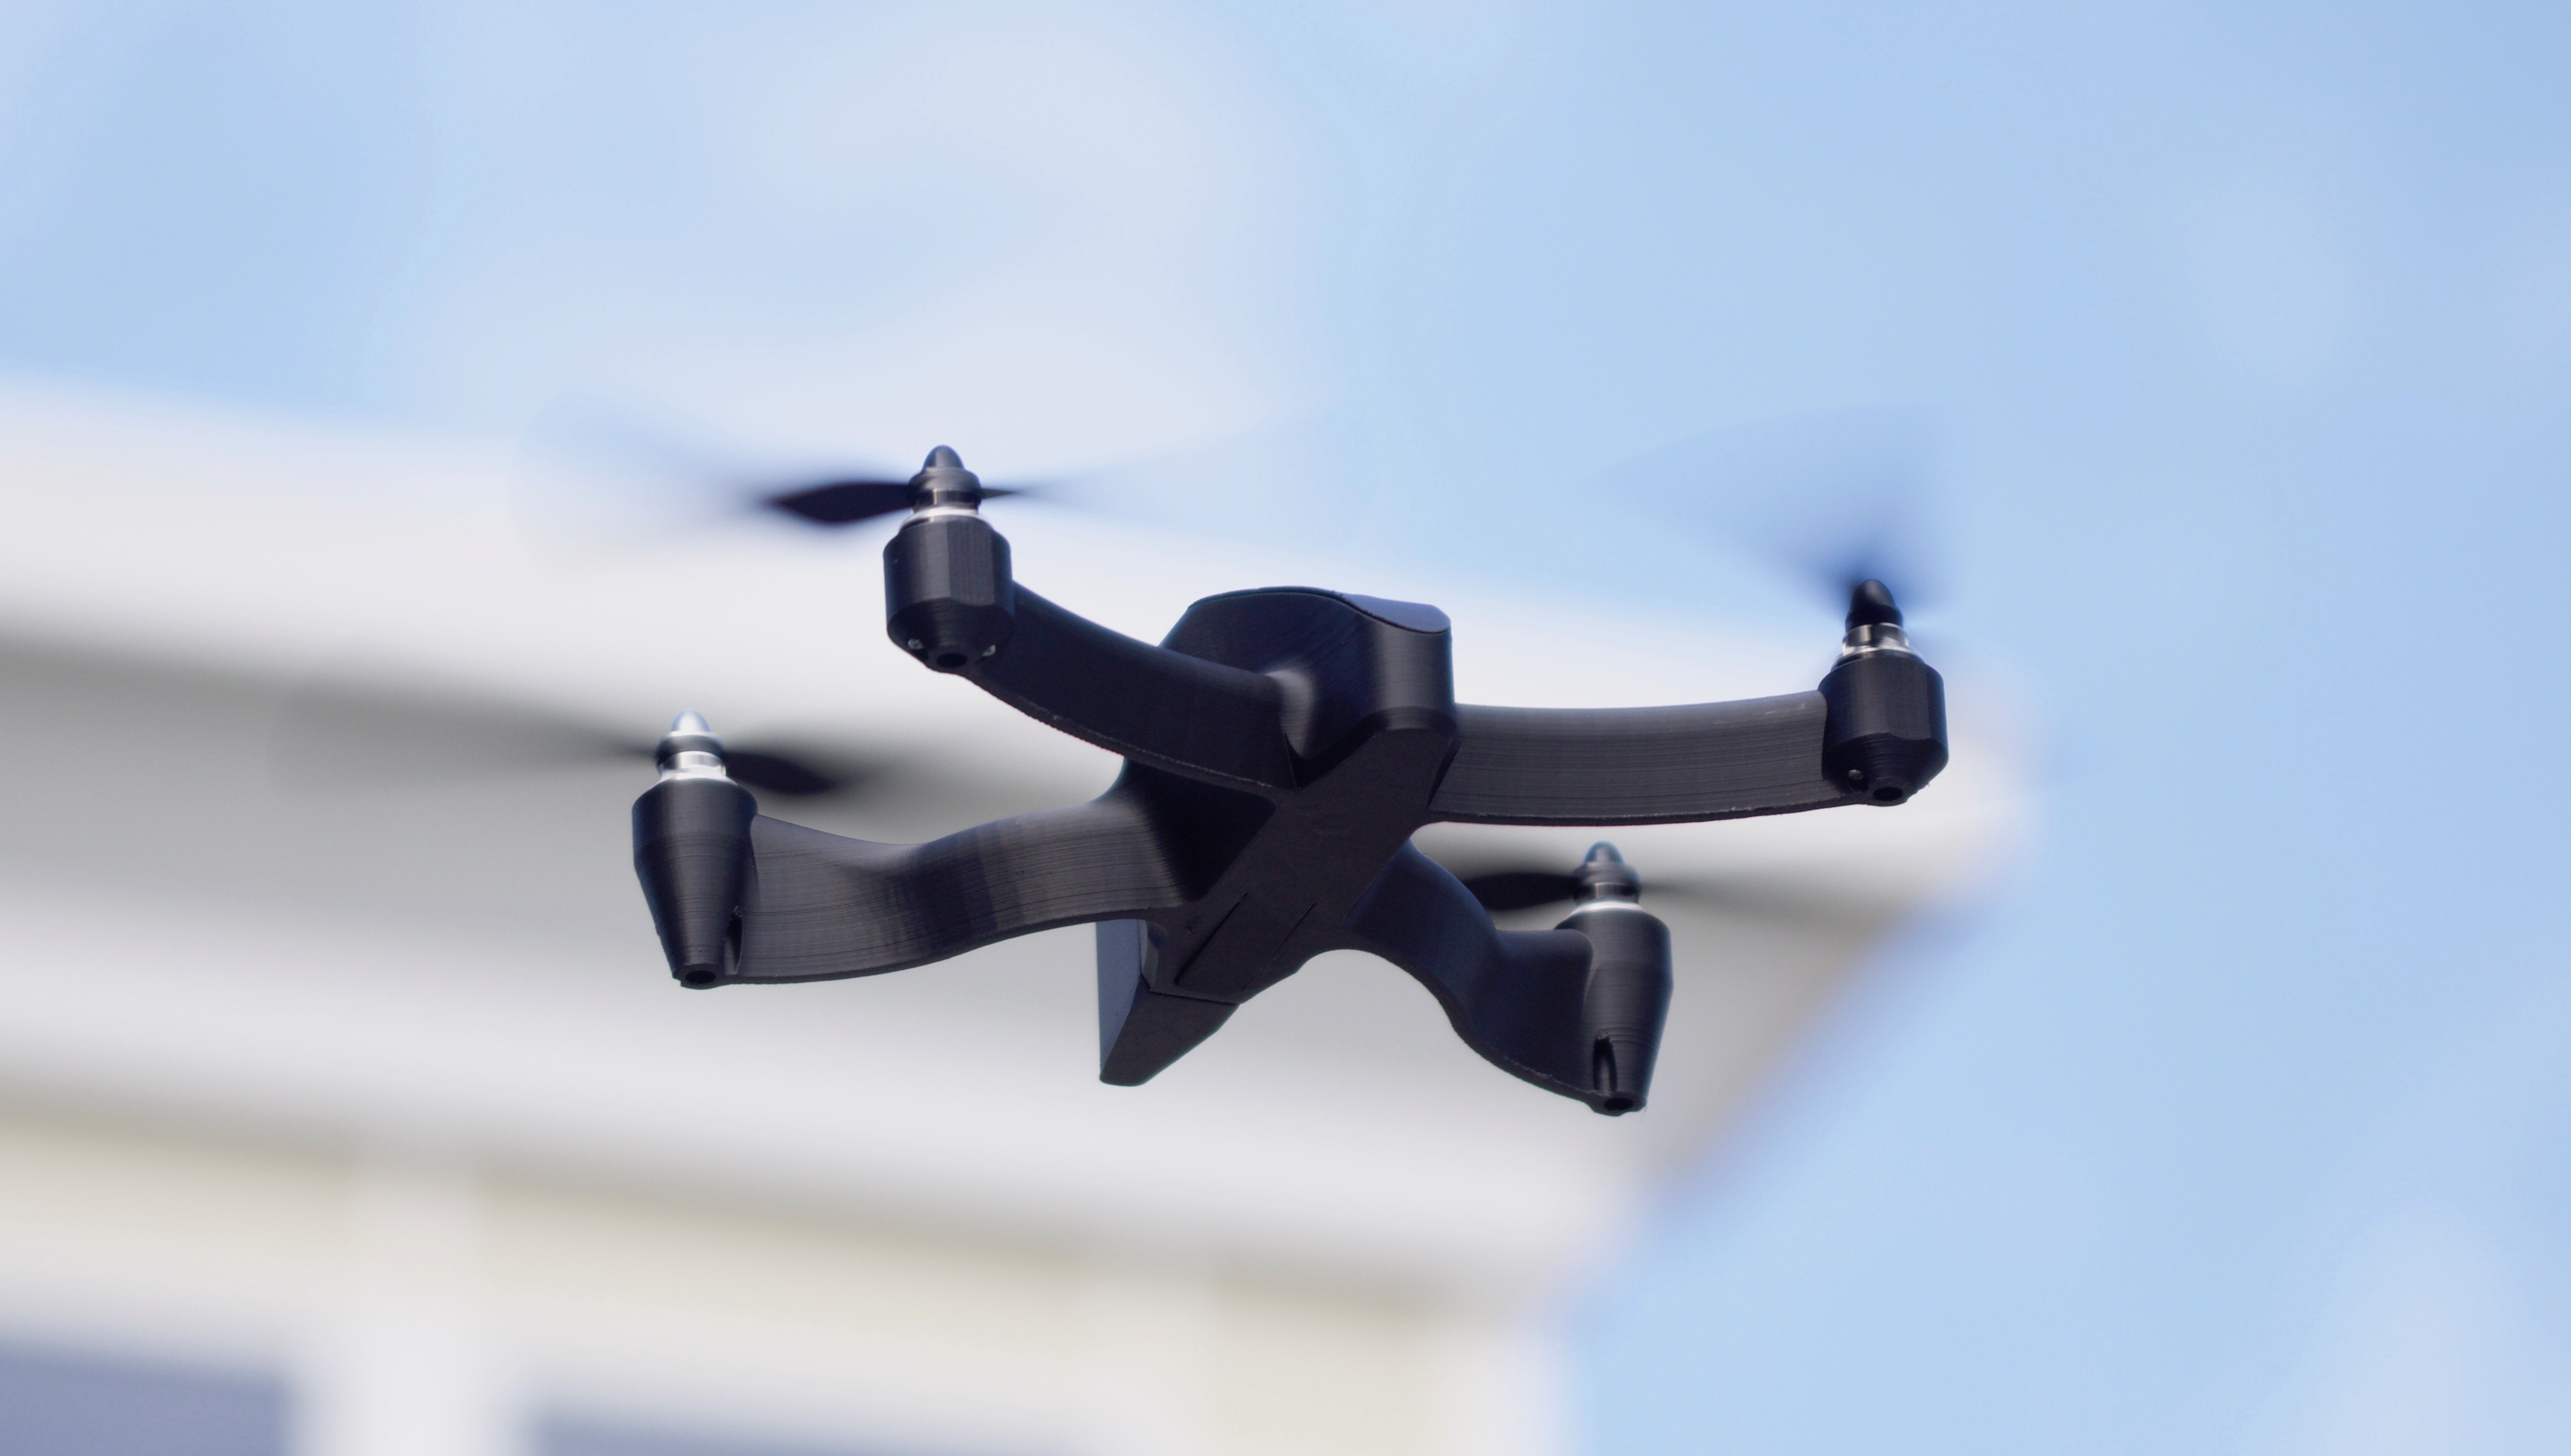drone: (277, 387, 2114, 1133)
